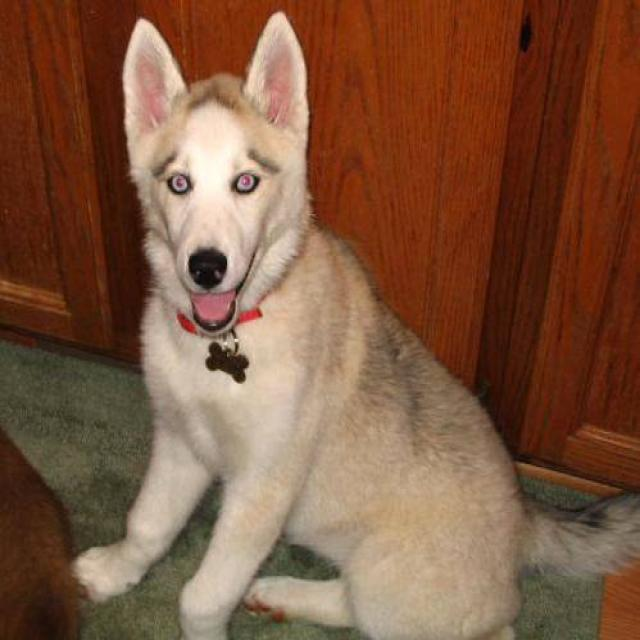dog: (69, 9, 639, 638)
